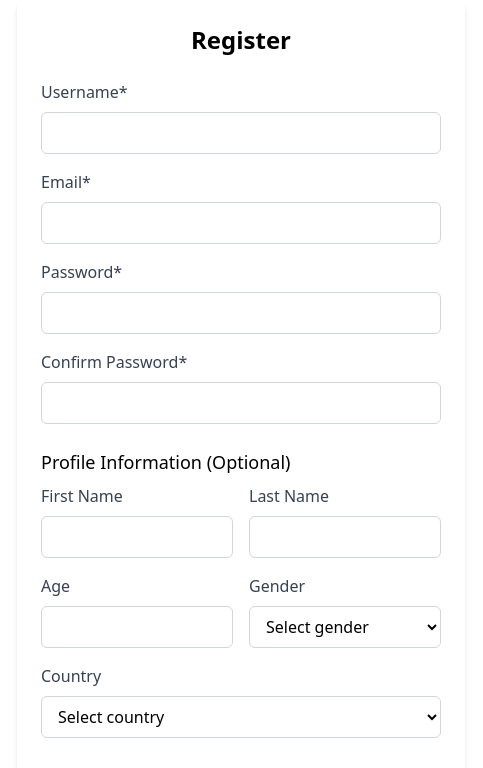
Test: RegisterForm › shows validation error for invalid email format
The image size is (483, 768).
Fill in the form with invalid email
Type "testuser" into the field labelled "Username*" at (241, 133), box [41, 112, 441, 154]
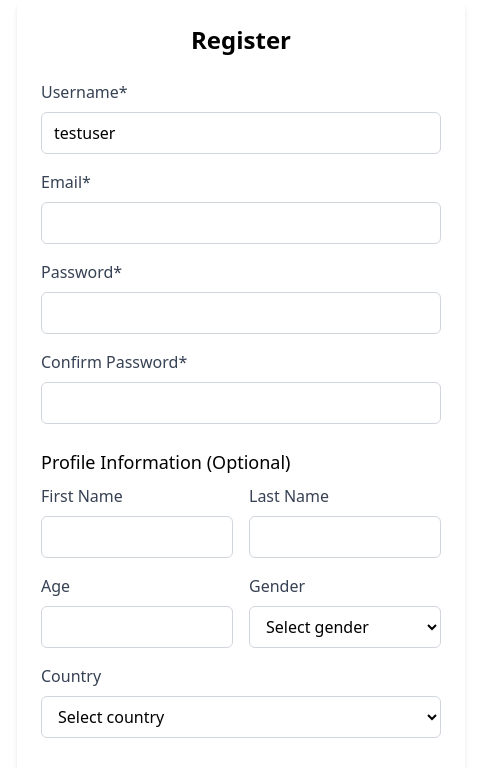
Type "invalid-email" into the field labelled "Email*" at (241, 223), box [41, 202, 441, 244]
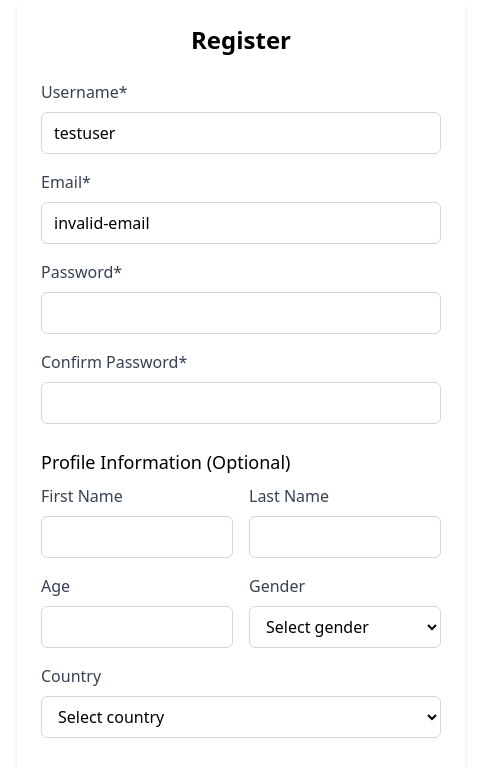
Type "password123" into the password field labelled "Password*" at (241, 313), box [41, 292, 441, 334]
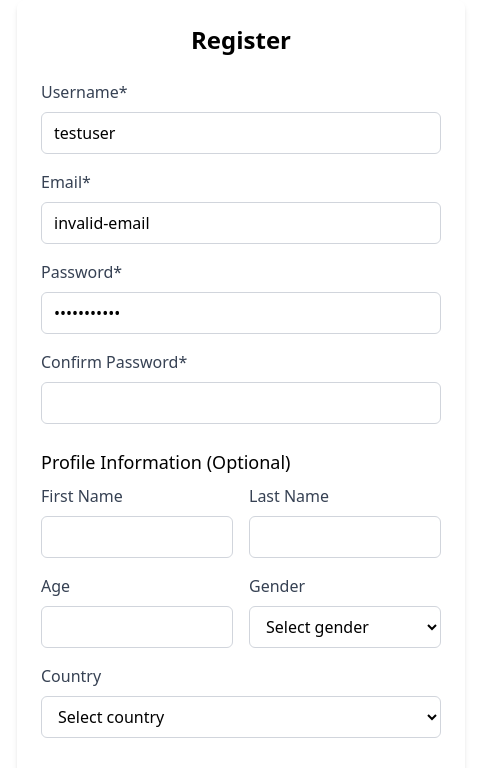
Type "password123" into the password field labelled "Confirm Password*" at (241, 403), box [41, 382, 441, 424]
(page scrolled)
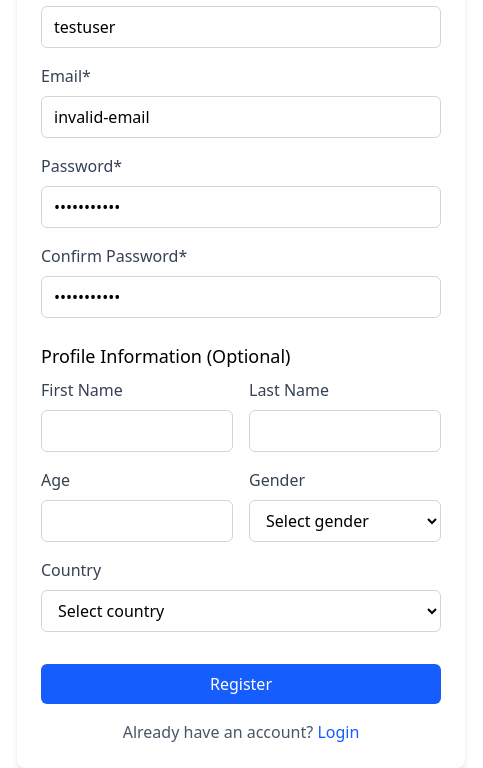
Submit the form
Click the button "Register" at (241, 684), box [41, 664, 441, 704]
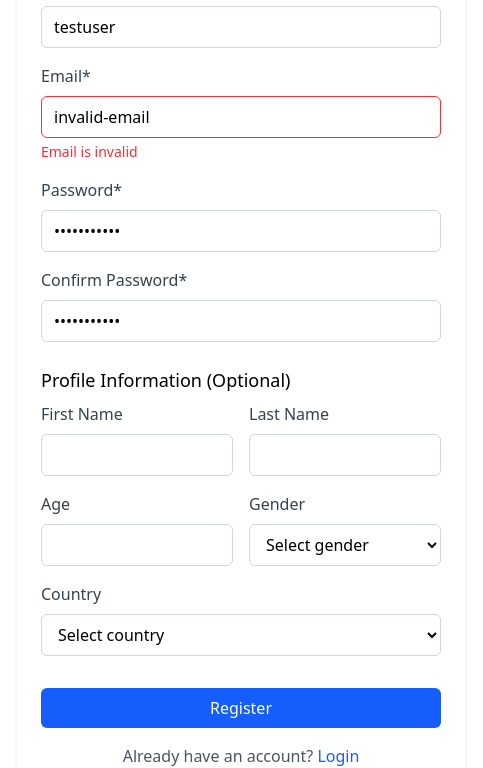
Expected: the message with test id "email-error" reads "Email is invalid", [41, 142, 138, 161]
